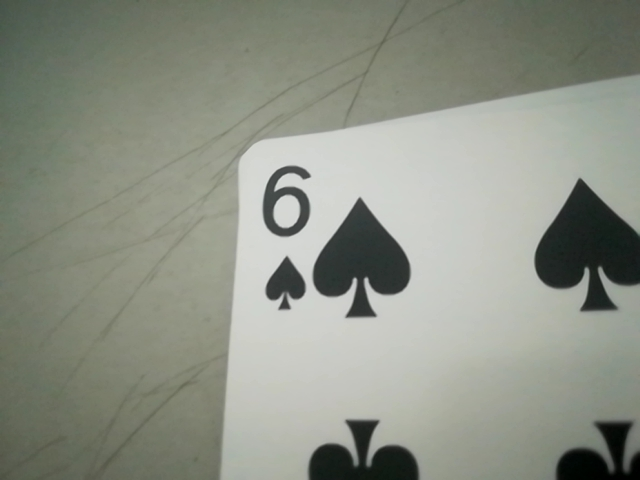ht 6: (245, 153, 329, 315)
